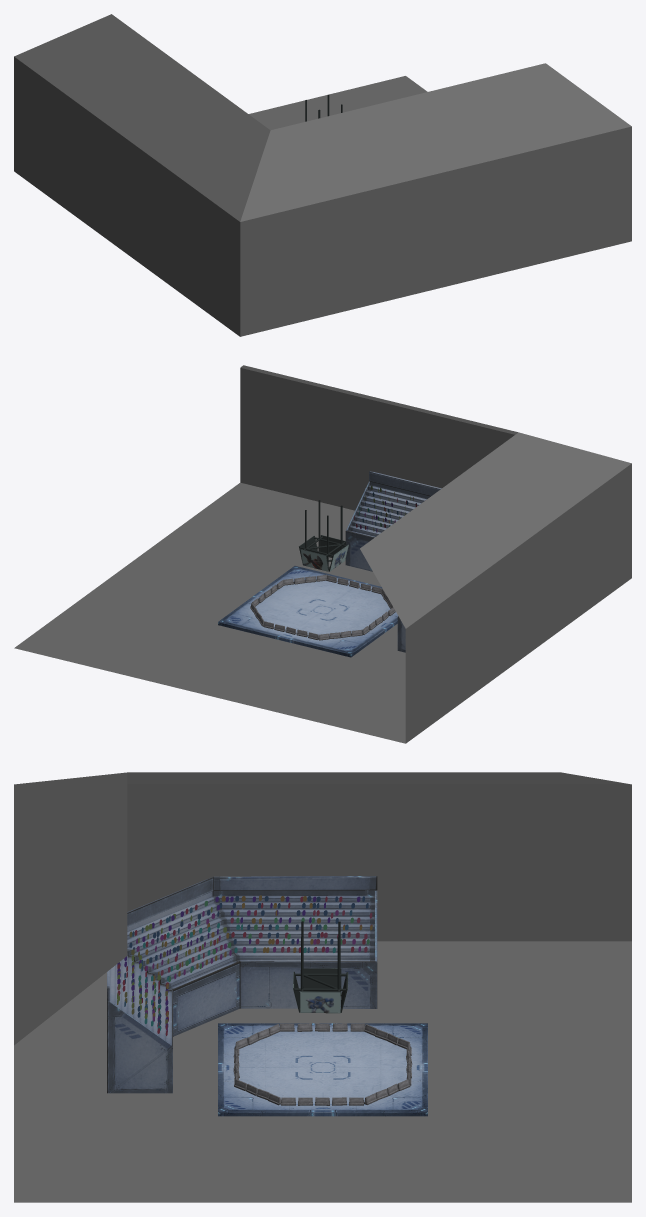
The model's file is Arena_AF1.fbx.
3 renders of one model, top to bottom at view 1: azimuth 30°, elevation 25°; view 2: azimuth 150°, elevation 25°; view 3: azimuth 270°, elevation 25°, orthographic. The views are drawn at different scales.
Visible parts, largest first — view 1: Vloer_Muur; view 2: Vloer_Muur, Plane, tribune, Cylinder.002; view 3: Vloer_Muur, tribune, Plane, Plane.002, Cylinder.002, beton_block.004, beton_block.000.
Part boxes in pixels (left/top/right/bottom): Vloer_Muur: left=14, top=14, right=631, bottom=336; Vloer_Muur: left=14, top=365, right=631, bottom=743; Plane: left=218, top=566, right=397, bottom=657; tribune: left=345, top=471, right=441, bottom=652; Cylinder.002: left=299, top=500, right=348, bottom=571; Vloer_Muur: left=14, top=772, right=631, bottom=1202; tribune: left=107, top=876, right=377, bottom=1093; Plane: left=218, top=1023, right=427, bottom=1116; Plane.002: left=117, top=895, right=372, bottom=1035; Cylinder.002: left=293, top=921, right=348, bottom=1013; beton_block.004: left=280, top=1023, right=365, bottom=1031; beton_block.000: left=281, top=1097, right=363, bottom=1105.
Bounding box in the file's own units: 8260 × 3251 × 8260.
